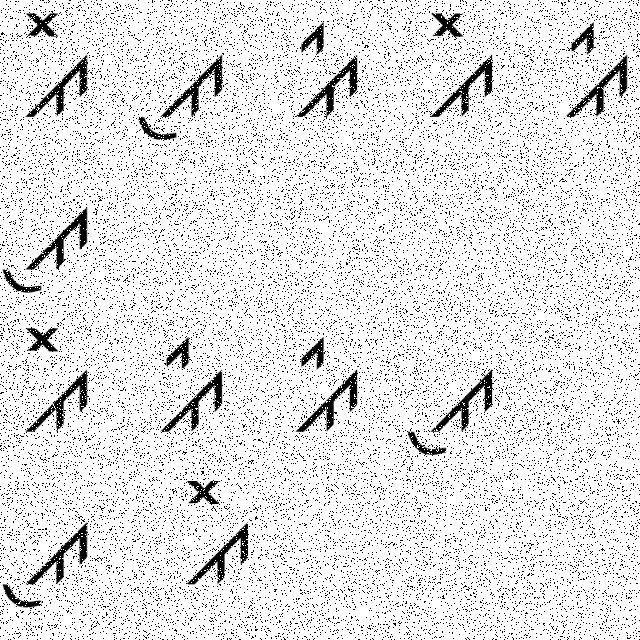kaw: (391, 352, 497, 459), (2, 192, 100, 302), (127, 44, 230, 148), (2, 508, 92, 618)
ki: (280, 325, 364, 438), (287, 21, 372, 132), (550, 20, 635, 125), (155, 330, 225, 443)
ko: (18, 8, 100, 134), (415, 10, 503, 126), (173, 475, 259, 593), (15, 324, 99, 442)
